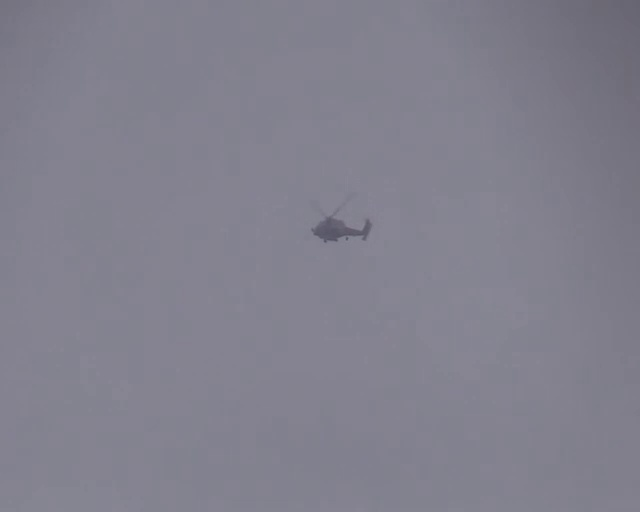HELICOPTER: (309, 190, 371, 243)
